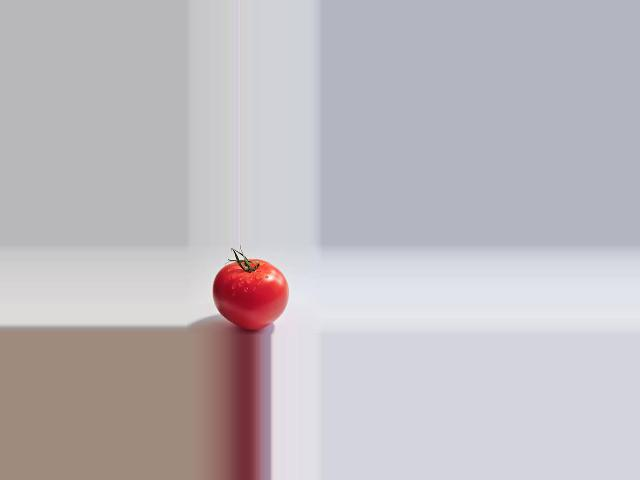tomato: (213, 260, 289, 330)
